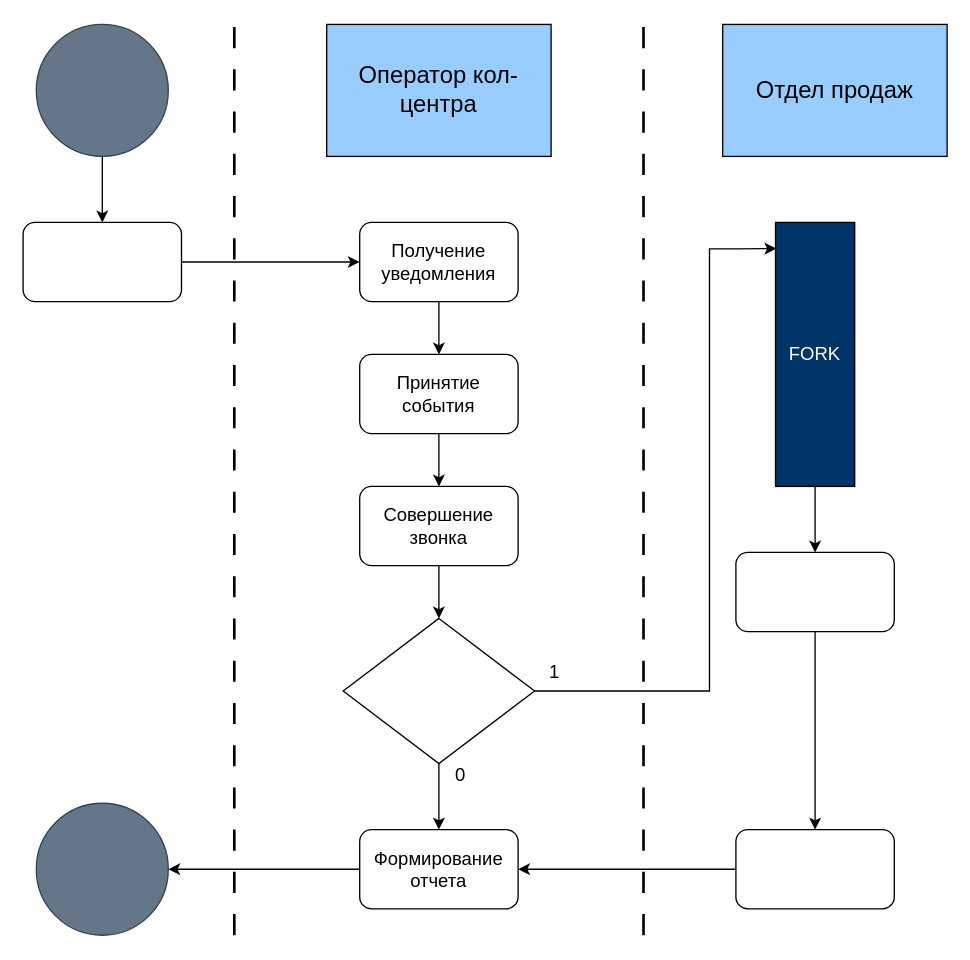
The diagram is 970 pixels wide and 960 high, and some of its shapes have lost their labels. Each missing label, with the centre of its shape:
"Клиент заинтересован" belongs at (x=438, y=690).
"Оформление договора" belongs at (x=814, y=868).
"Оформление обратного звонка" belongs at (x=102, y=261).
"Согласование закза" belongs at (x=814, y=591).
